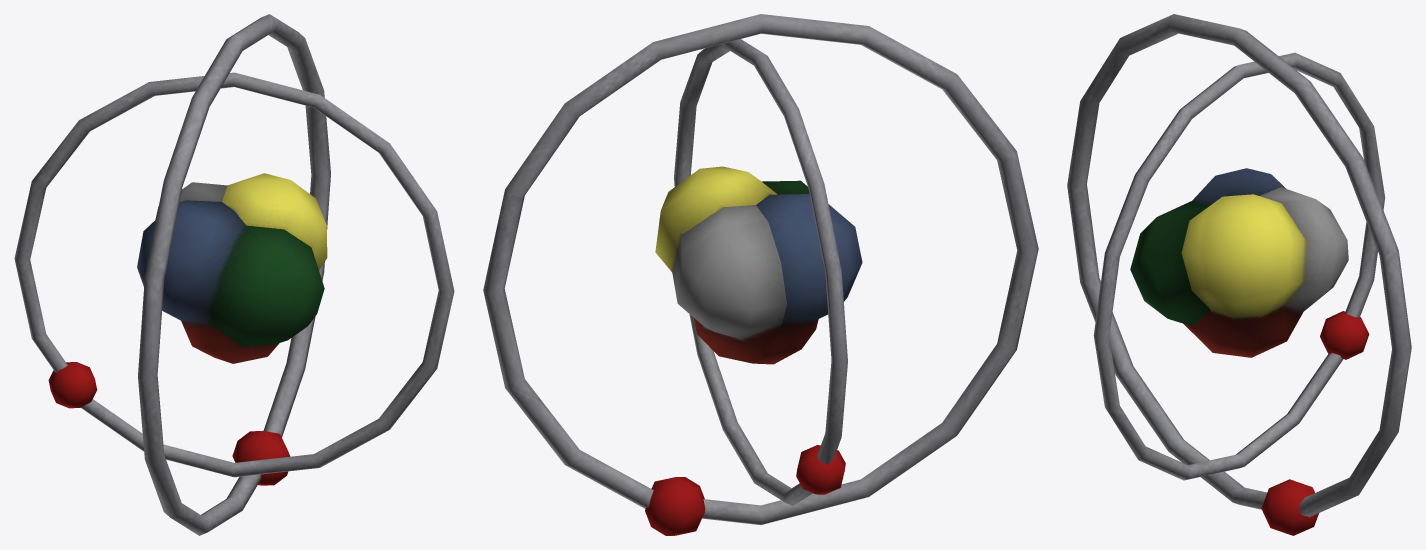
The model's file is infotron_27.obj.
The picture shows the model from 3 angles, left to right: view 1: azimuth 30°, elevation 25°; view 2: azimuth 150°, elevation 25°; view 3: azimuth 270°, elevation 25°; orthographic projection. The views are drawn at different scales.
Visible parts, largest first — view 1: unwrapped2, Object09, Object10, Object11, Object12; view 2: Object09, unwrapped2, Object10, Object12, Object11; view 3: unwrapped2, Object09, Object10, Object12, Object11.
Boxes of the visible parts, x1,y1,x2,y2 form: unwrapped2: (137,173,327,363); Object09: (138,14,330,535); Object10: (14,72,454,477); Object11: (48,362,97,408); Object12: (232,431,290,485); Object09: (483,14,1038,524); unwrapped2: (655,166,862,364); Object10: (674,39,847,505); Object12: (645,477,705,535); Object11: (796,445,845,494); unwrapped2: (1130,168,1348,357); Object09: (1067,14,1411,516); Object10: (1093,52,1385,480); Object12: (1261,479,1318,535); Object11: (1320,311,1369,359).
Size of the model in its own units: 27.27 by 35.61 by 23.15.
1 material, 1 textured.
